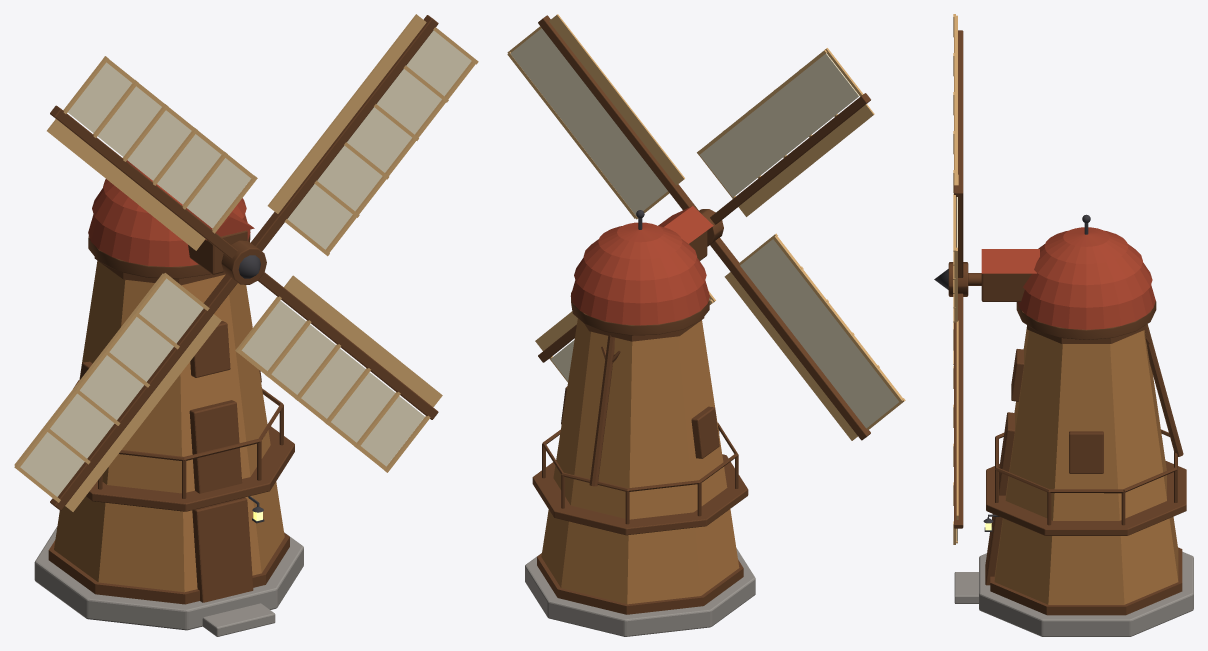
Rendered from gen_windmill.mobile-mid.glb.
The picture shows the model from 3 angles, left to right: view 1: azimuth 30°, elevation 25°; view 2: azimuth 150°, elevation 25°; view 3: azimuth 270°, elevation 25°; orthographic projection. The views are drawn at different scales.
Visible parts, largest first — view 1: windmill_sails, gen_windmill; view 2: gen_windmill, windmill_sails; view 3: gen_windmill, windmill_sails.
Boxes of the visible parts, <box> form: windmill_sails: <box>14,14,478,511</box>; gen_windmill: <box>34,160,303,636</box>; gen_windmill: <box>525,206,755,636</box>; windmill_sails: <box>507,14,905,440</box>; gen_windmill: <box>954,214,1193,636</box>; windmill_sails: <box>934,14,981,544</box>.
Size of the model in its own units: 11.78 by 14.79 by 6.7.
1 material, 1 textured.
